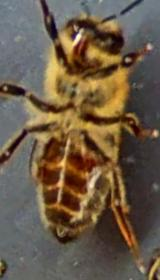varroa_mite: (76, 145, 106, 172), (40, 133, 62, 158)
